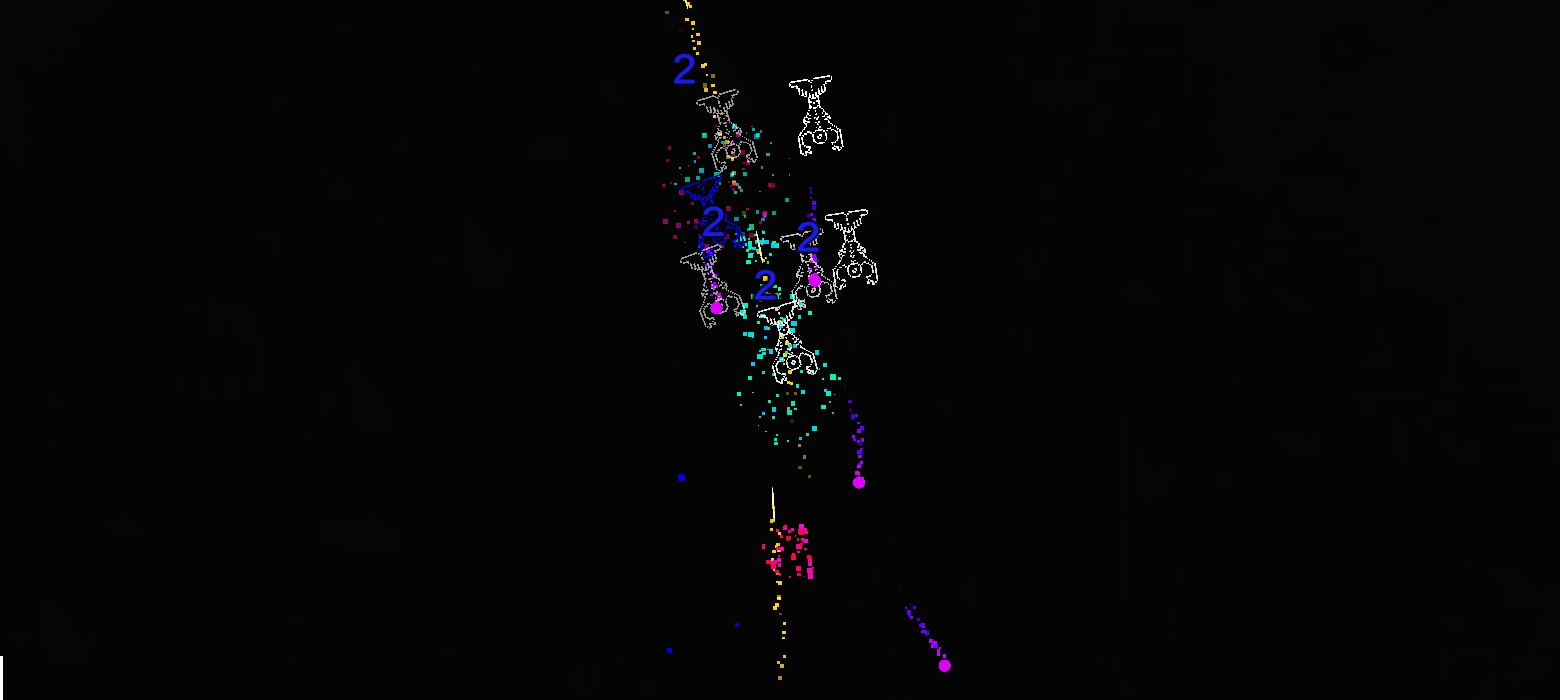enemy: (679, 243, 745, 329), (680, 175, 746, 258), (696, 88, 758, 173), (756, 299, 818, 384), (780, 228, 838, 310), (788, 74, 844, 157), (825, 209, 878, 290)
